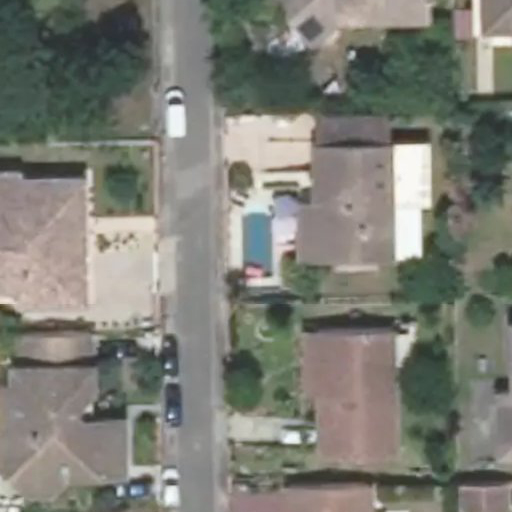pool: (238, 205, 273, 277)
